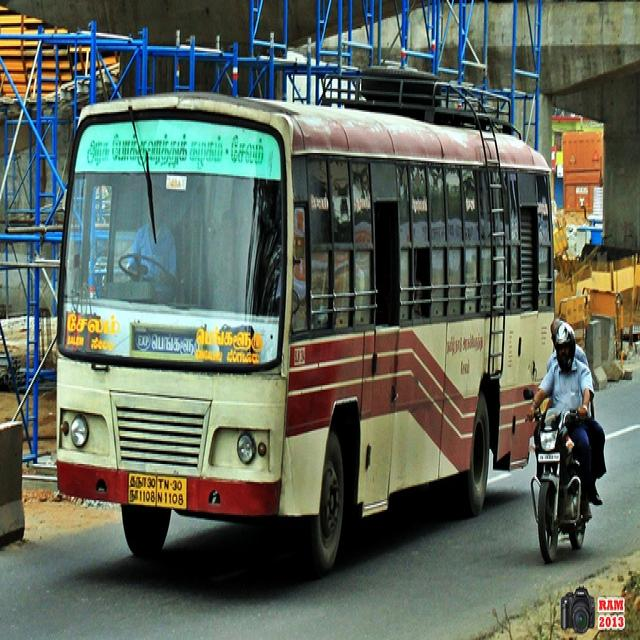motor: (518, 385, 589, 570)
